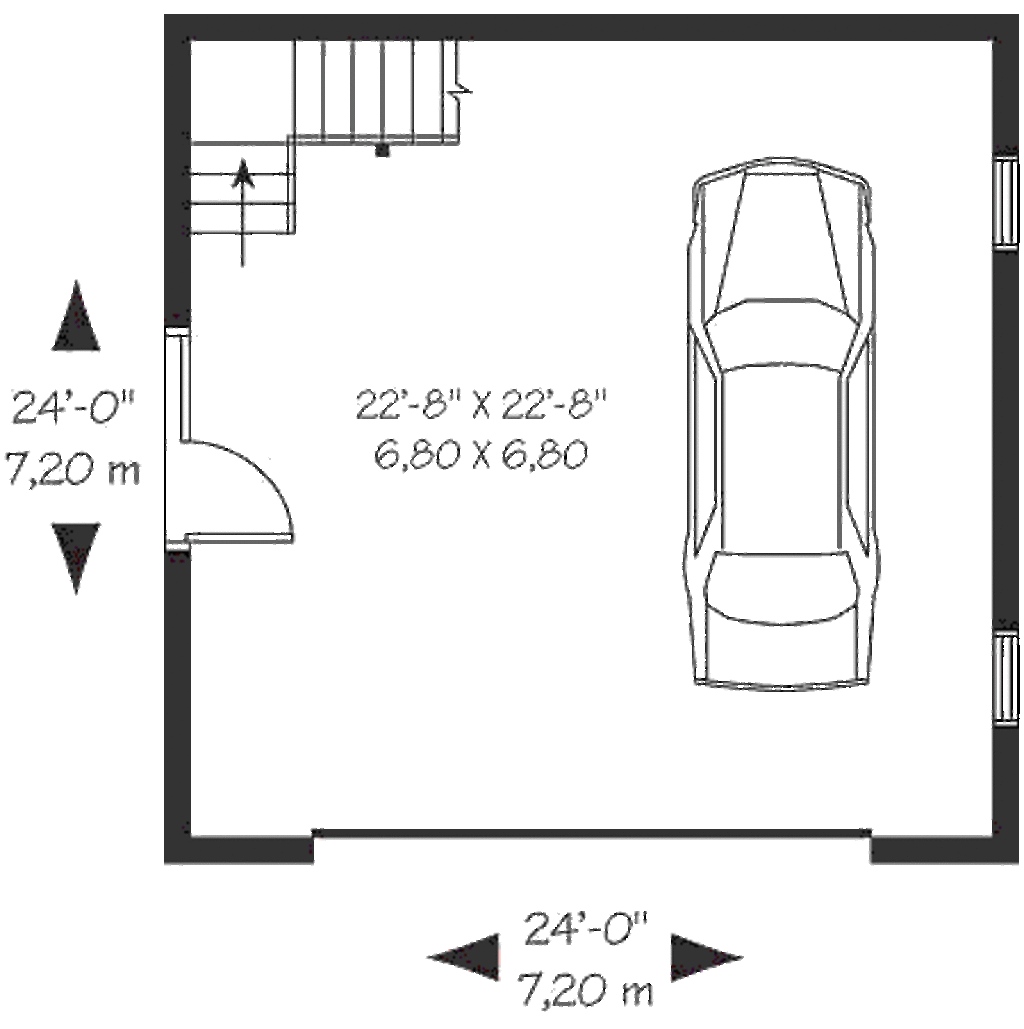door: (158, 441, 305, 549)
stairs: (177, 38, 486, 257)
window: (988, 630, 1018, 732), (991, 154, 1020, 259)
